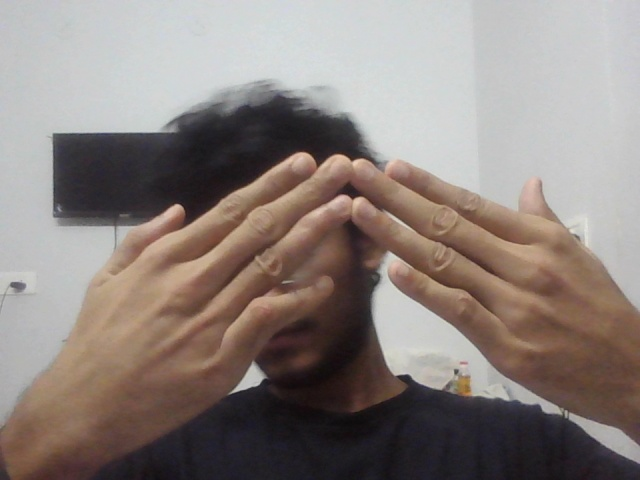Thanks: (2, 124, 640, 478)
